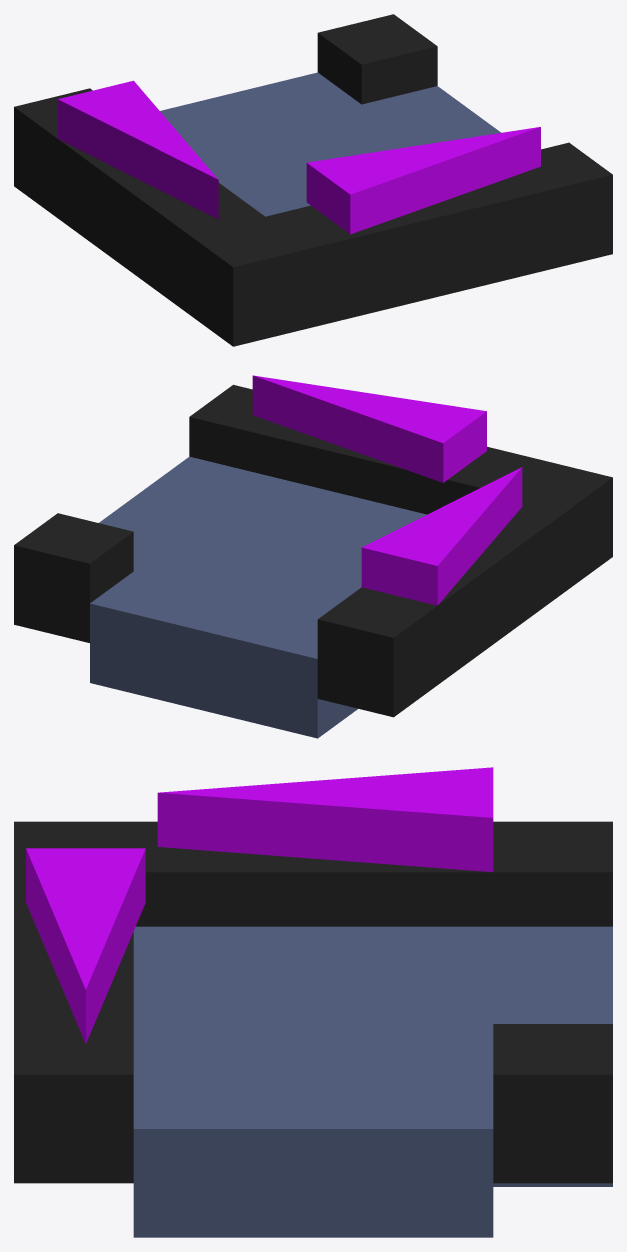
The model's file is Belt-Corner_L.fbx.
3 views of the same model, one above another, from view 1: azimuth 30°, elevation 25°; view 2: azimuth 150°, elevation 25°; view 3: azimuth 270°, elevation 25° (orthographic). The views are drawn at different scales.
Visible parts, largest first — view 1: mergedBlocks; view 2: mergedBlocks; view 3: mergedBlocks.
Part boxes in pixels (x1,y1,x2,y2): mergedBlocks: [14, 14, 612, 346]; mergedBlocks: [14, 375, 612, 738]; mergedBlocks: [14, 767, 612, 1237].
Bounding box in the file's own units: 10 × 4 × 10.
1 material, 1 textured.
